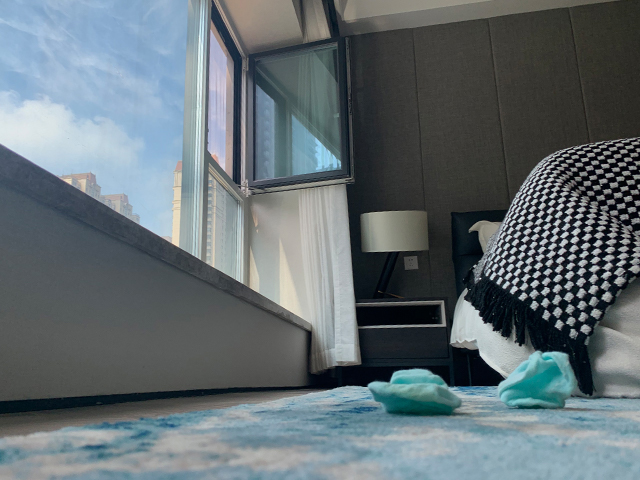bed: (449, 136, 640, 400)
cabinet: (352, 295, 458, 387)
carpet: (1, 384, 640, 480)
curtain: (300, 1, 367, 377)
socks: (494, 347, 580, 411), (365, 366, 465, 417)
